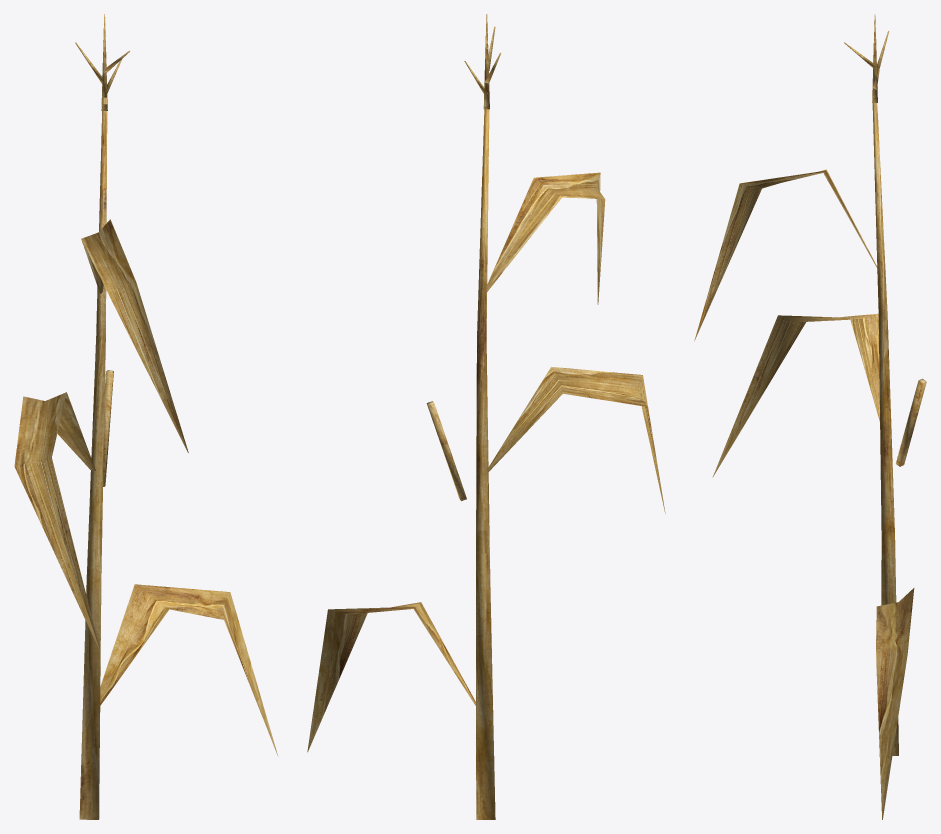
File: Corn_A_Far.glb
3 views of the same model, side by side, from view 1: azimuth 30°, elevation 25°; view 2: azimuth 150°, elevation 25°; view 3: azimuth 270°, elevation 25° (orthographic). The views are drawn at different scales.
Parts seen in each view (by area): view 1: Corn_A_Far; view 2: Corn_A_Far; view 3: Corn_A_Far.
Boxes of the visible parts, left/top/right/bottom form: Corn_A_Far: left=14, top=14, right=277, bottom=819; Corn_A_Far: left=307, top=14, right=665, bottom=819; Corn_A_Far: left=694, top=14, right=926, bottom=819.
Size of the model in its own units: 3.16 by 8 by 2.27.
Materials: 1 (1 with a texture image).
